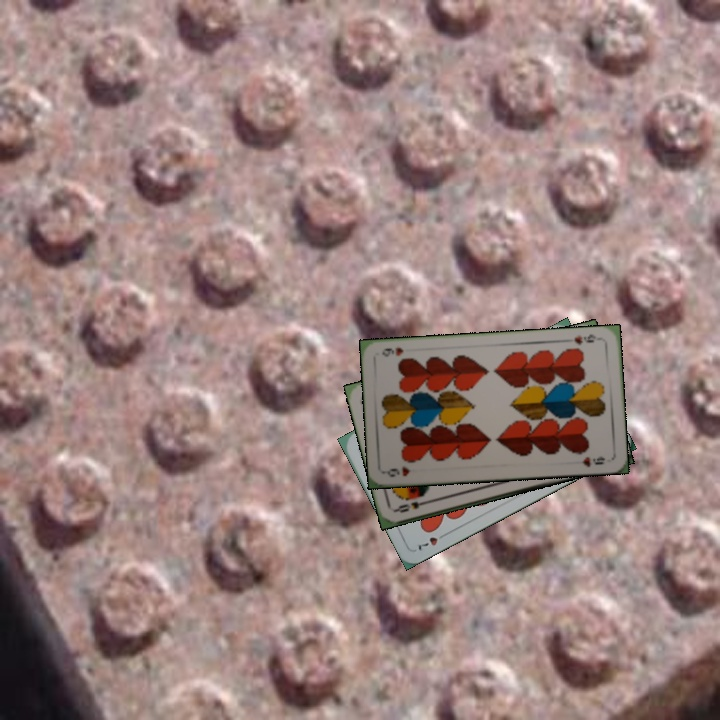H7: (414, 529, 450, 553)
H9: (382, 462, 413, 479), (570, 330, 598, 347)
SO: (392, 496, 432, 515)
